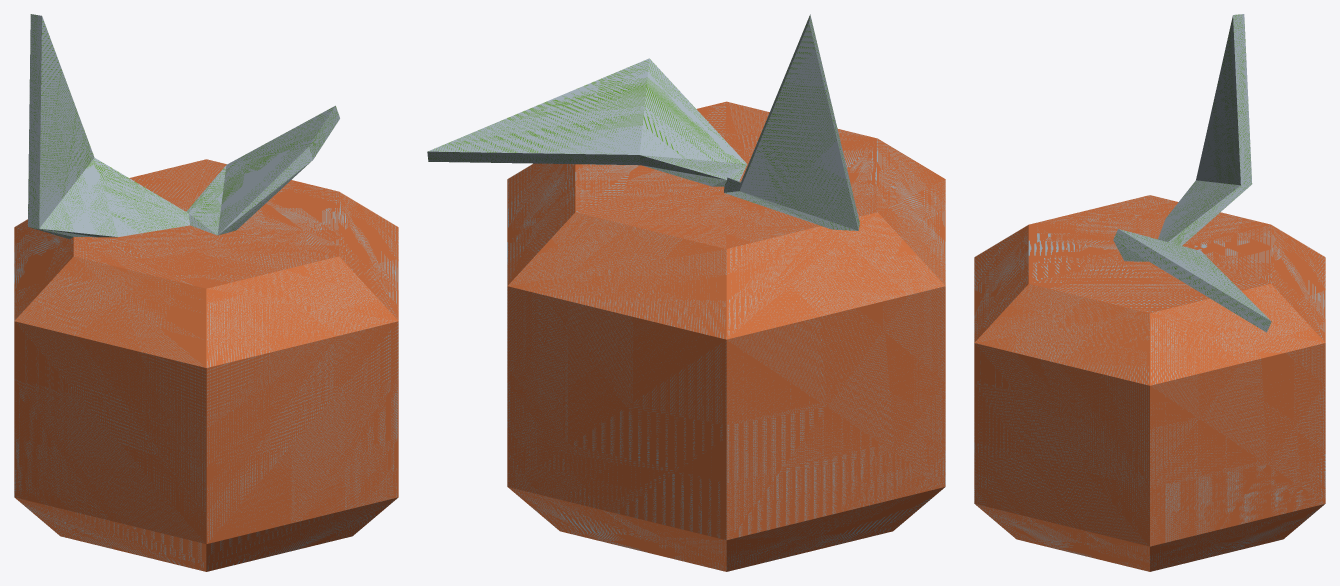
File: Pumpkin_02.fbx
3 views of the same model, side by side, from view 1: azimuth 30°, elevation 25°; view 2: azimuth 150°, elevation 25°; view 3: azimuth 270°, elevation 25° (orthographic). The views are drawn at different scales.
Visible parts, largest first — view 1: Model; view 2: Model; view 3: Model.
Part boxes in pixels (left/top/right/bottom): Model: left=14, top=14, right=398, bottom=571; Model: left=427, top=14, right=945, bottom=571; Model: left=974, top=14, right=1325, bottom=571.
Size of the model in its own units: 103 by 122 by 88.16.
